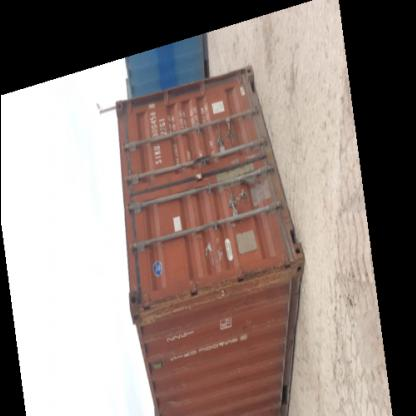Damage: (138, 292, 198, 328), (214, 163, 268, 201), (214, 273, 283, 299), (202, 237, 228, 272), (162, 378, 190, 410), (230, 322, 252, 338)
